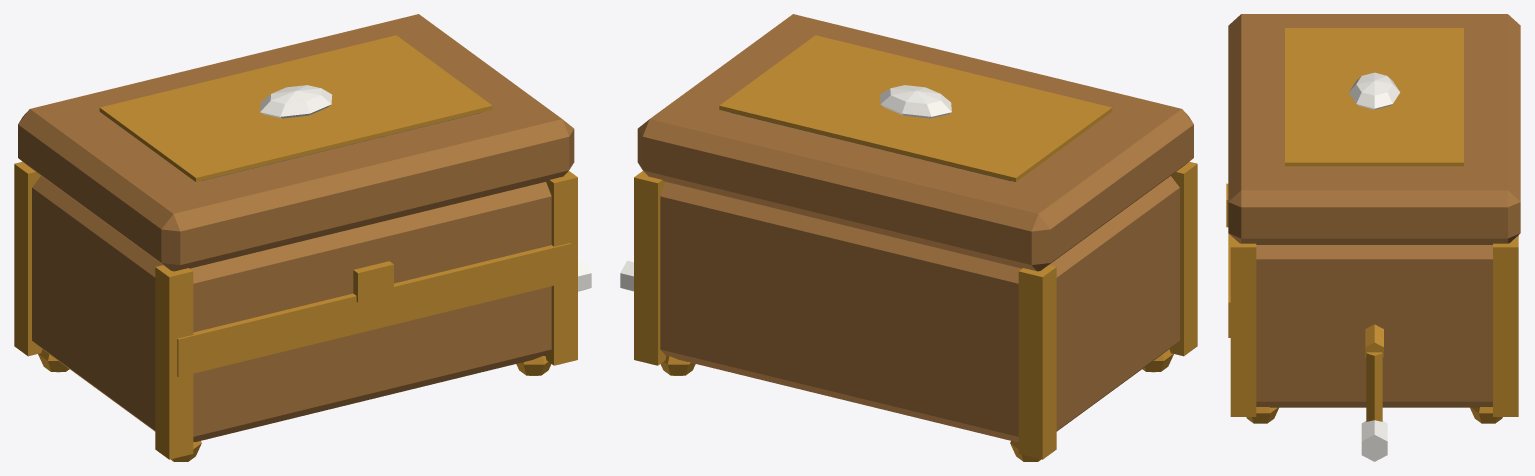
Rendered from MusicBox.fbx.
3 renders of one model, left to right at view 1: azimuth 30°, elevation 25°; view 2: azimuth 150°, elevation 25°; view 3: azimuth 270°, elevation 25°, orthographic. The views are drawn at different scales.
Visible parts, largest first — view 1: Box, Lid; view 2: Box, Lid; view 3: Lid, Box, Crank.
Boxes of the visible parts, x1,y1,x2,y2 form: Box: (14,161,577,461); Lid: (18,14,574,271); Box: (634,161,1197,461); Lid: (637,14,1193,271); Lid: (1228,14,1520,244); Box: (1226,183,1518,423); Crank: (1361,324,1387,461).
Size of the model in its own units: 0.247 by 0.135 by 0.137.
